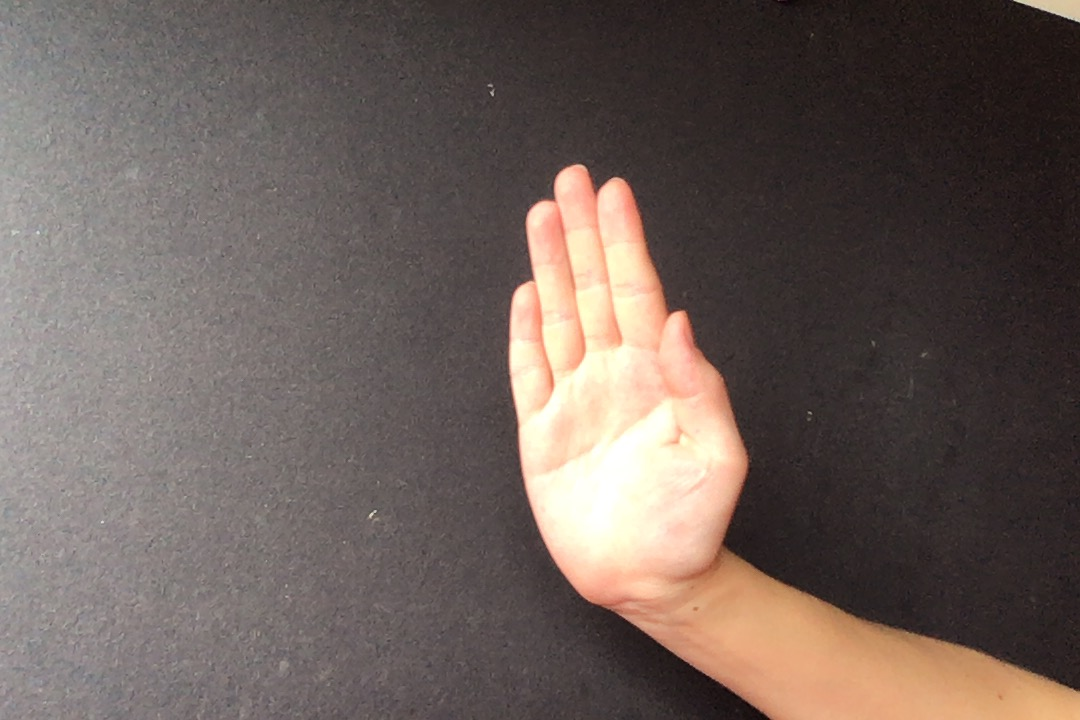palmhand: (496, 160, 753, 612)
